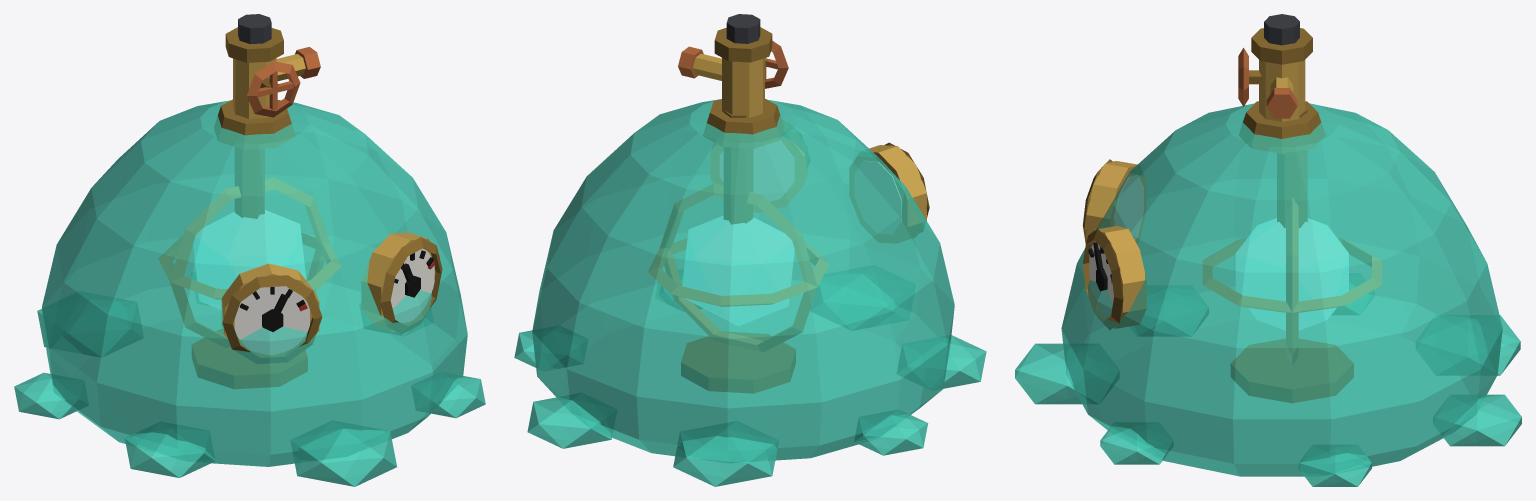
File: slime.glb
The picture shows the model from 3 angles, left to right: view 1: azimuth 30°, elevation 25°; view 2: azimuth 150°, elevation 25°; view 3: azimuth 270°, elevation 25°; orthographic projection. The views are drawn at different scales.
Parts seen in each view (by area): view 1: body, valve, eye_R, eye_L; view 2: body, valve, eye_R, eye_L; view 3: body, valve, eye_L, eye_R.
Part boxes in pixels (bbox=[...]): body: bbox=[14, 100, 485, 486]; valve: bbox=[214, 14, 320, 149]; eye_R: bbox=[222, 263, 322, 364]; eye_L: bbox=[361, 232, 442, 334]; body: bbox=[514, 99, 986, 486]; valve: bbox=[678, 14, 788, 148]; eye_R: bbox=[849, 142, 929, 243]; eye_L: bbox=[711, 137, 806, 212]; body: bbox=[1015, 103, 1521, 486]; valve: bbox=[1238, 14, 1325, 153]; eye_L: bbox=[1082, 226, 1146, 329]; eye_R: bbox=[1082, 159, 1146, 244].
Size of the model in its own units: 0.9423 by 0.83 by 0.9879.
